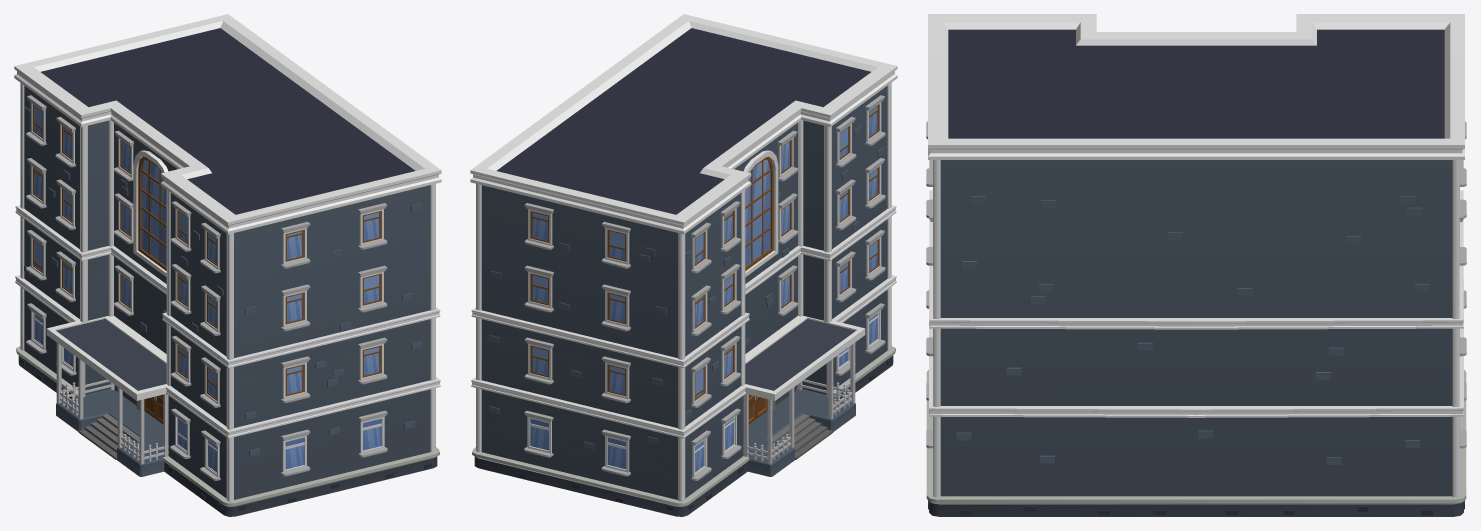
Rendered from Building_5_3_N.fbx.
The picture shows the model from 3 angles, left to right: view 1: azimuth 30°, elevation 25°; view 2: azimuth 150°, elevation 25°; view 3: azimuth 270°, elevation 25°; orthographic projection. The views are drawn at different scales.
Visible parts, largest first — view 1: Building_5_3_N; view 2: Building_5_3_N; view 3: Building_5_3_N.
Boxes of the visible parts, <box> form: Building_5_3_N: <box>14,14,441,516</box>; Building_5_3_N: <box>470,14,897,516</box>; Building_5_3_N: <box>926,14,1466,516</box>.
Bounding box in the file's own units: 1251 × 1450 × 1908.
